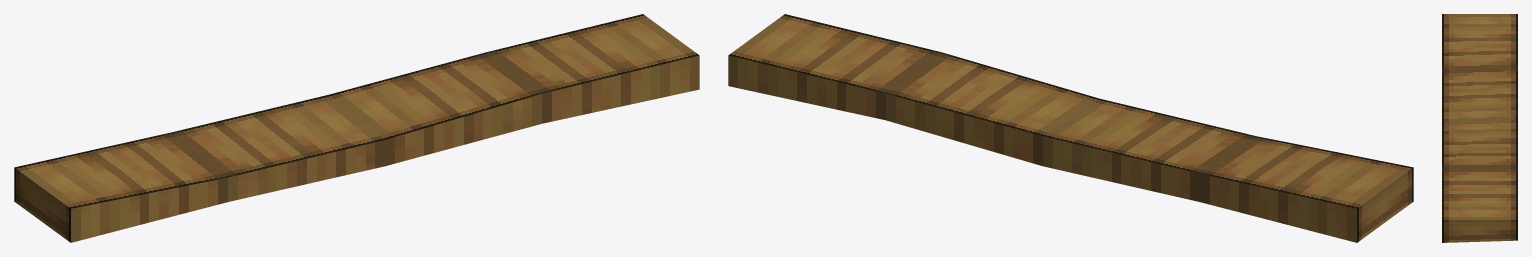
File: bridge.glb
3 renders of one model, left to right at view 1: azimuth 30°, elevation 25°; view 2: azimuth 150°, elevation 25°; view 3: azimuth 270°, elevation 25°, orthographic. The views are drawn at different scales.
Visible parts, largest first — view 1: bridge; view 2: bridge; view 3: bridge.
Boxes of the visible parts, x1,y1,x2,y2 form: bridge: [14, 14, 699, 242]; bridge: [728, 14, 1413, 242]; bridge: [1442, 14, 1517, 242].
Bounding box in the file's own units: 35.95 × 1.87 × 5.6.
Materials: 1 (1 with a texture image).
